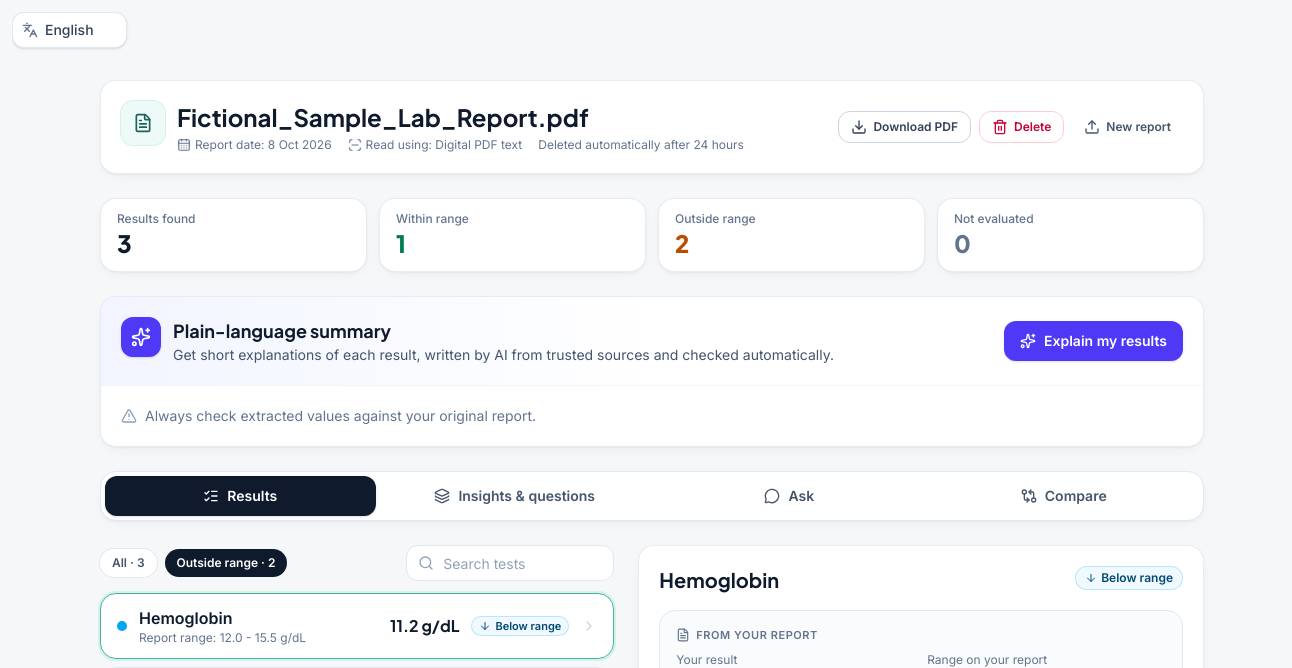
Test: report dashboard › clearly marks fallback content
Click the button "Explain my results". click: x=1094, y=341
box: [1004,321,1183,361]
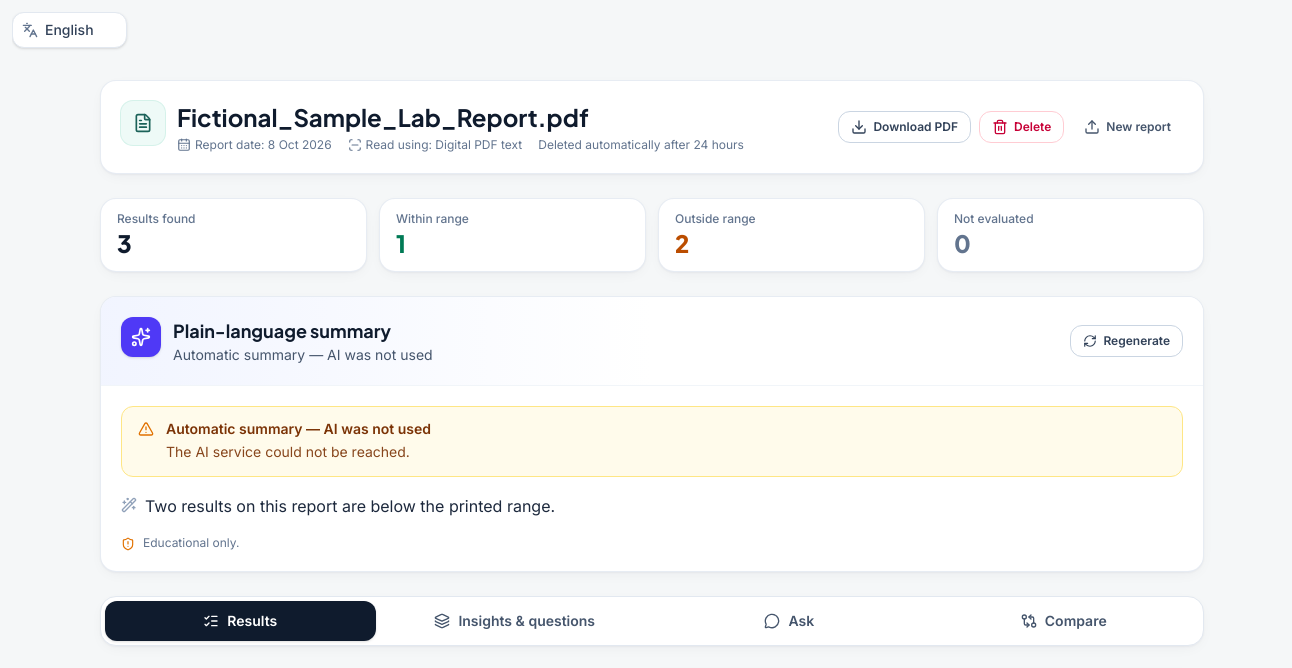
Result: the text "The AI service could not be reached." is shown at [166,443,410,460]
Result: the text "Automatic summary — AI was not used" below "Plain-language summary" is shown at [173,346,433,363]
